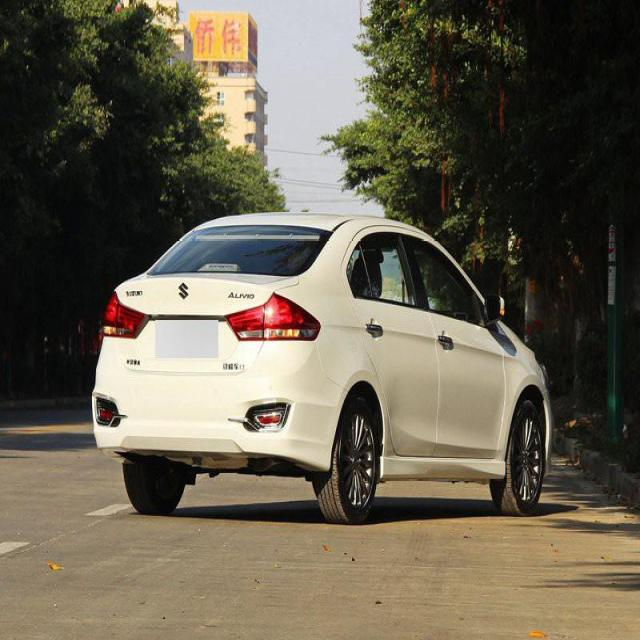back_glass: (146, 224, 334, 276)
back_left_side_light: (100, 288, 150, 339)
back_right_side_light: (222, 291, 322, 342)
door: (344, 224, 439, 462)
front_right_side_door: (405, 223, 507, 460)
front_right_side_mirror: (485, 292, 505, 332)
rear_bumper: (91, 335, 350, 472)
wheel: (318, 394, 378, 521), (490, 400, 544, 515), (122, 461, 187, 516)
